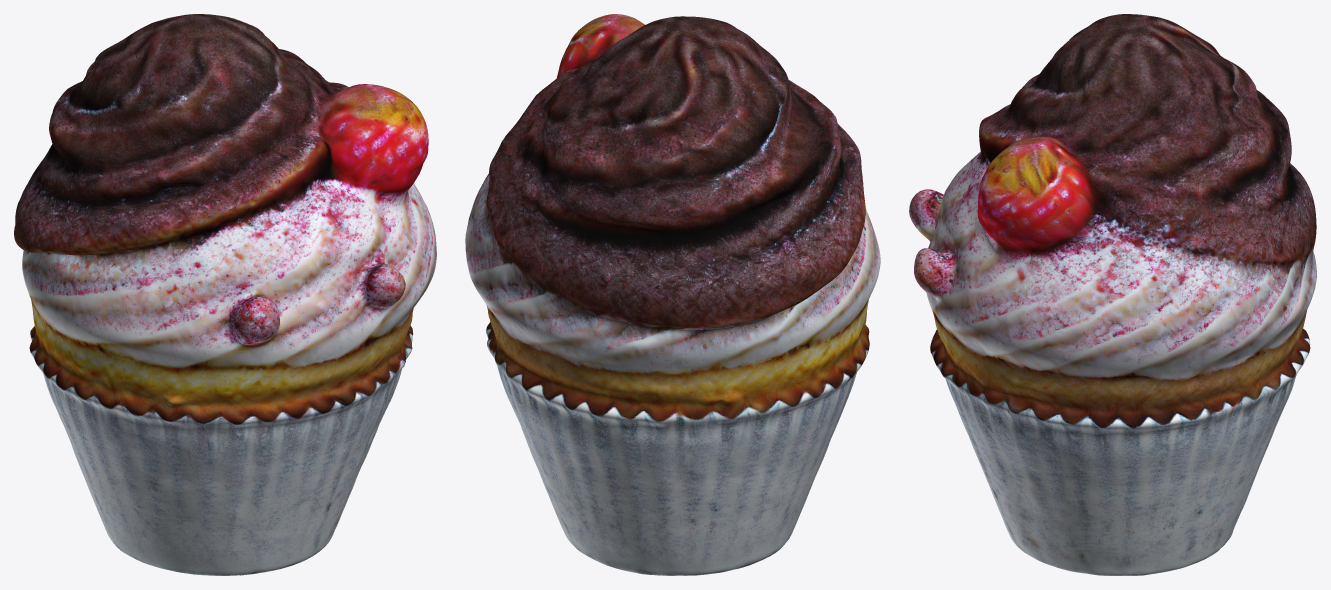
The model's file is cupcake.glb.
3 views of the same model, side by side, from view 1: azimuth 30°, elevation 25°; view 2: azimuth 150°, elevation 25°; view 3: azimuth 270°, elevation 25° (orthographic). The views are drawn at different scales.
Parts seen in each view (by area): view 1: model; view 2: model; view 3: model.
Part boxes in pixels (x1,y1,x2,y2): model: (14, 14, 436, 575); model: (465, 14, 880, 575); model: (909, 14, 1316, 575).
Size of the model in its own units: 1.31 by 1.75 by 1.3.
Materials: 1 (1 with a texture image).
